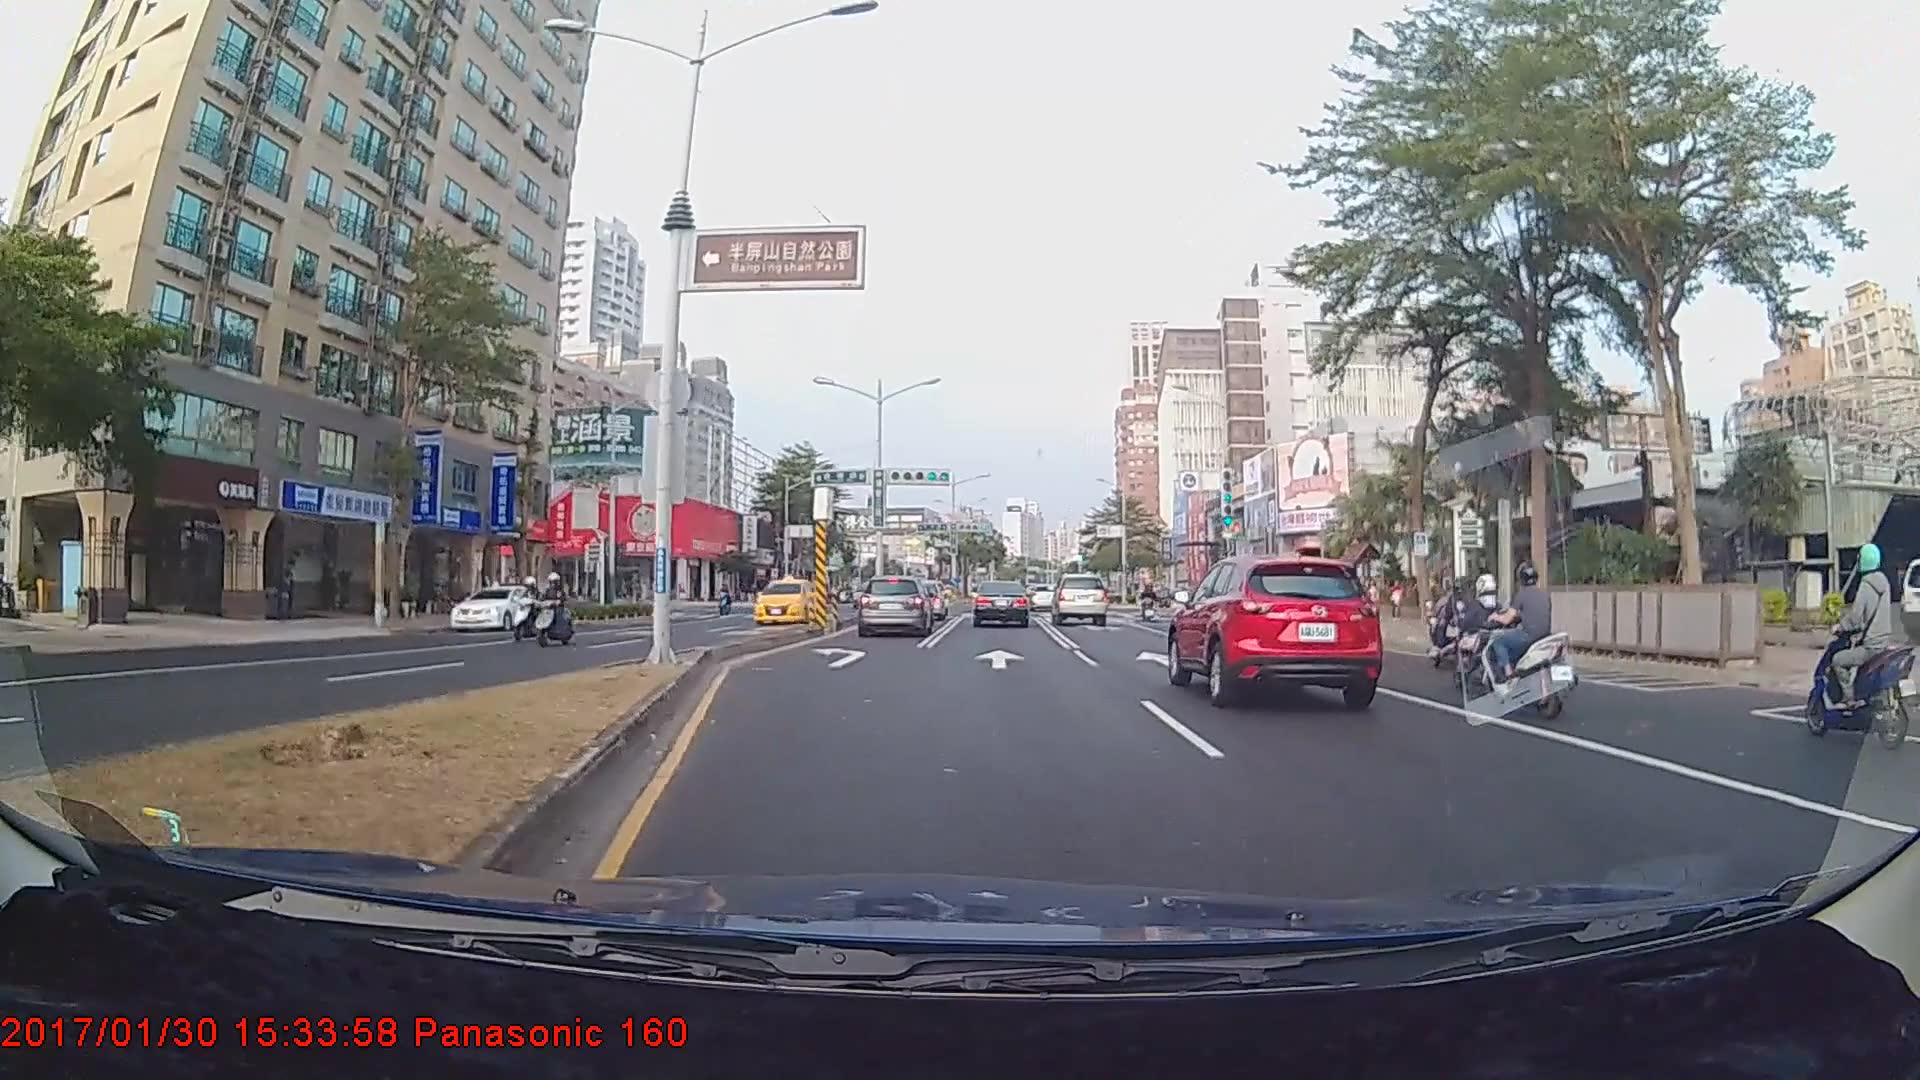rider: (1810, 536, 1917, 760), (1483, 563, 1592, 722), (1424, 572, 1478, 674), (530, 573, 572, 650), (508, 575, 549, 645)
vehicle: (1173, 550, 1380, 705), (855, 576, 933, 637), (450, 583, 546, 632), (749, 580, 818, 626), (1051, 572, 1109, 626), (972, 579, 1029, 629)
